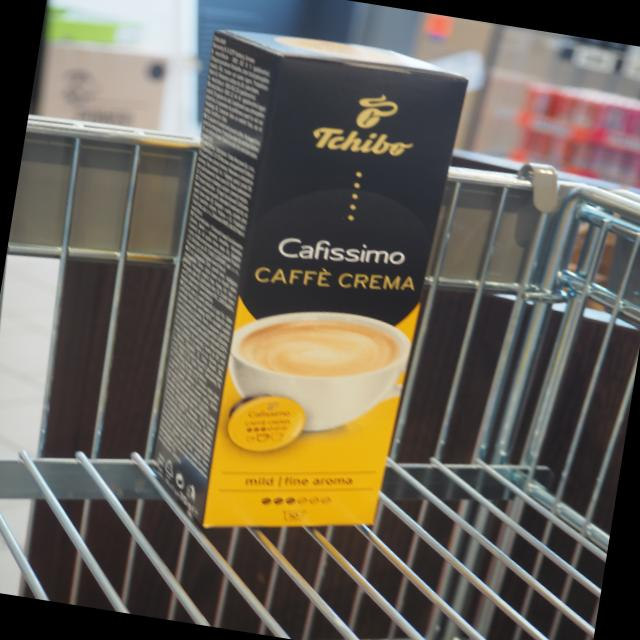Simo CCMild bigpack: (133, 22, 483, 533)
